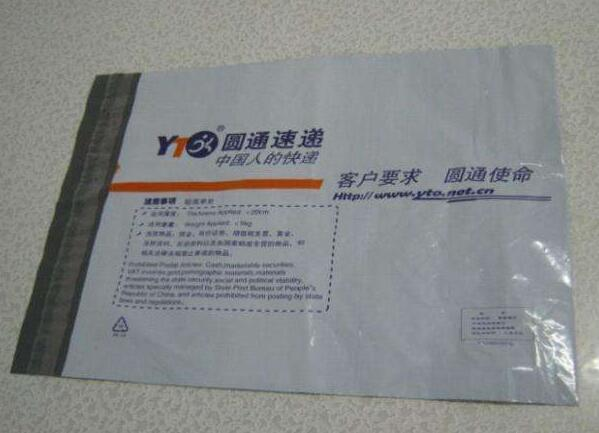塑料袋: (14, 49, 576, 404)
